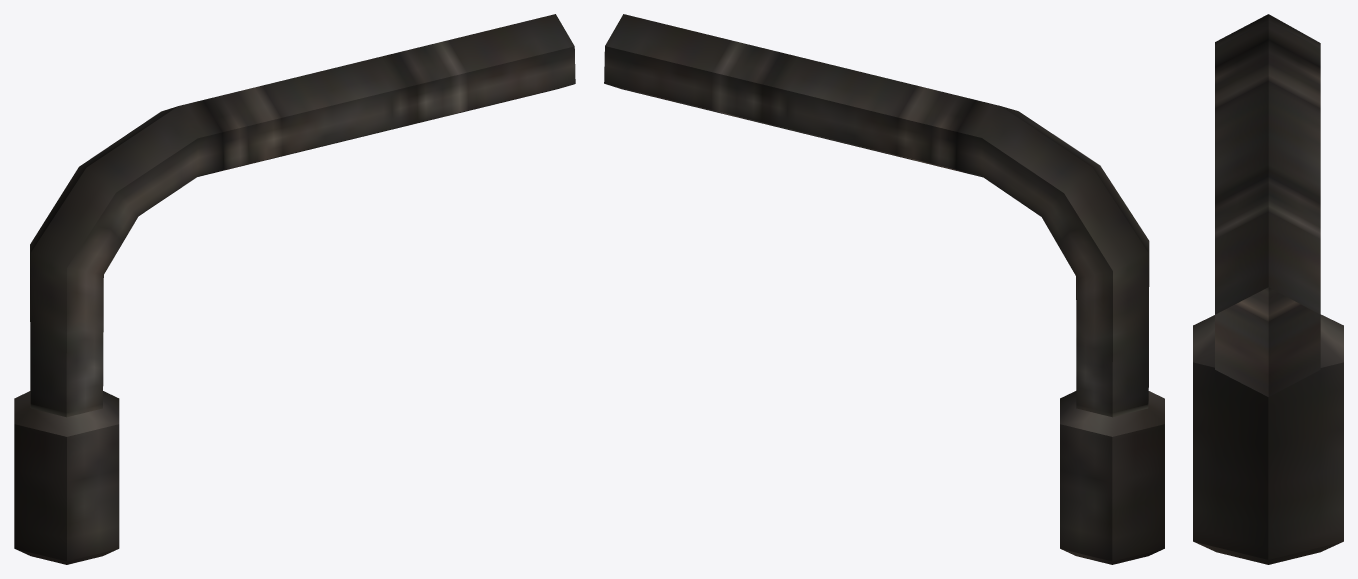
The model's file is SM_EN_2005_guandao02.FBX.
3 renders of one model, left to right at view 1: azimuth 30°, elevation 25°; view 2: azimuth 150°, elevation 25°; view 3: azimuth 270°, elevation 25°, orthographic. The views are drawn at different scales.
Visible parts, largest first — view 1: SM_EN_2005_guandao02; view 2: SM_EN_2005_guandao02; view 3: SM_EN_2005_guandao02.
Part boxes in pixels (x1,y1,x2,y2): SM_EN_2005_guandao02: (14,14,575,564); SM_EN_2005_guandao02: (604,14,1164,564); SM_EN_2005_guandao02: (1193,14,1343,564).
Size of the model in its own units: 35.46 by 25.83 by 5.93.
